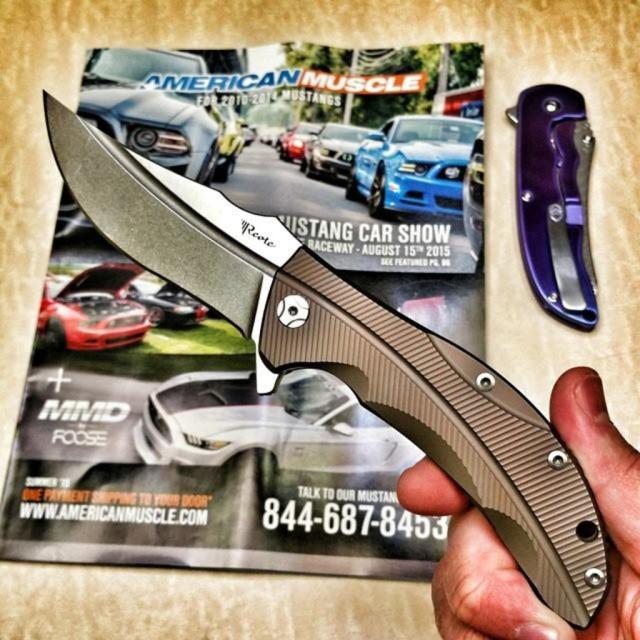Knife: (44, 93, 606, 626), (508, 85, 599, 329)
